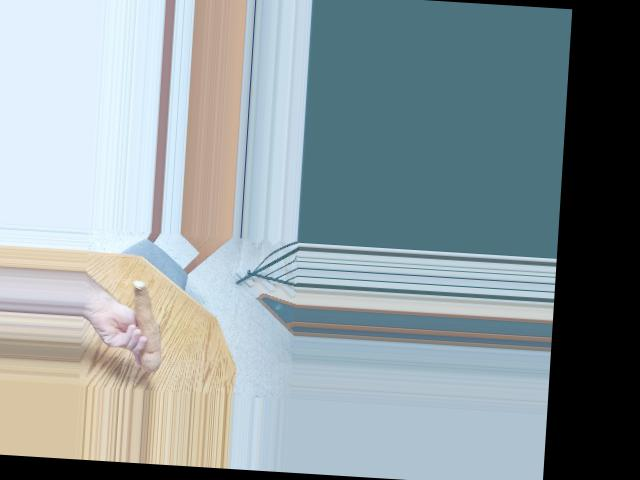sweet_potato: (124, 284, 169, 368)
